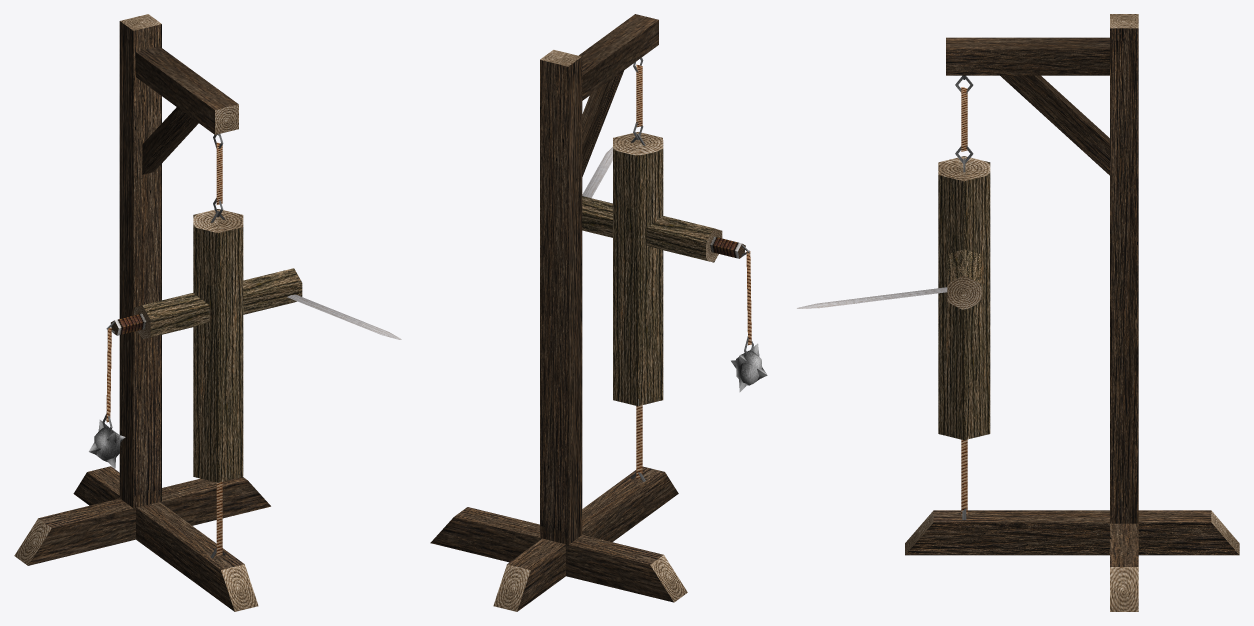
Rendered from mm9_deco_spindummy.glb.
3 renders of one model, left to right at view 1: azimuth 30°, elevation 25°; view 2: azimuth 150°, elevation 25°; view 3: azimuth 270°, elevation 25°, orthographic. The views are drawn at different scales.
Parts seen in each view (by area): view 1: Spindummy; view 2: Spindummy; view 3: Spindummy.
Boxes of the visible parts, box(x1,y1,x2,y2) form: Spindummy: box(14, 14, 401, 611); Spindummy: box(430, 14, 767, 611); Spindummy: box(797, 14, 1239, 611).
Size of the model in its own units: 1.64 by 3.14 by 2.39.
Materials: 2 (2 with a texture image).
